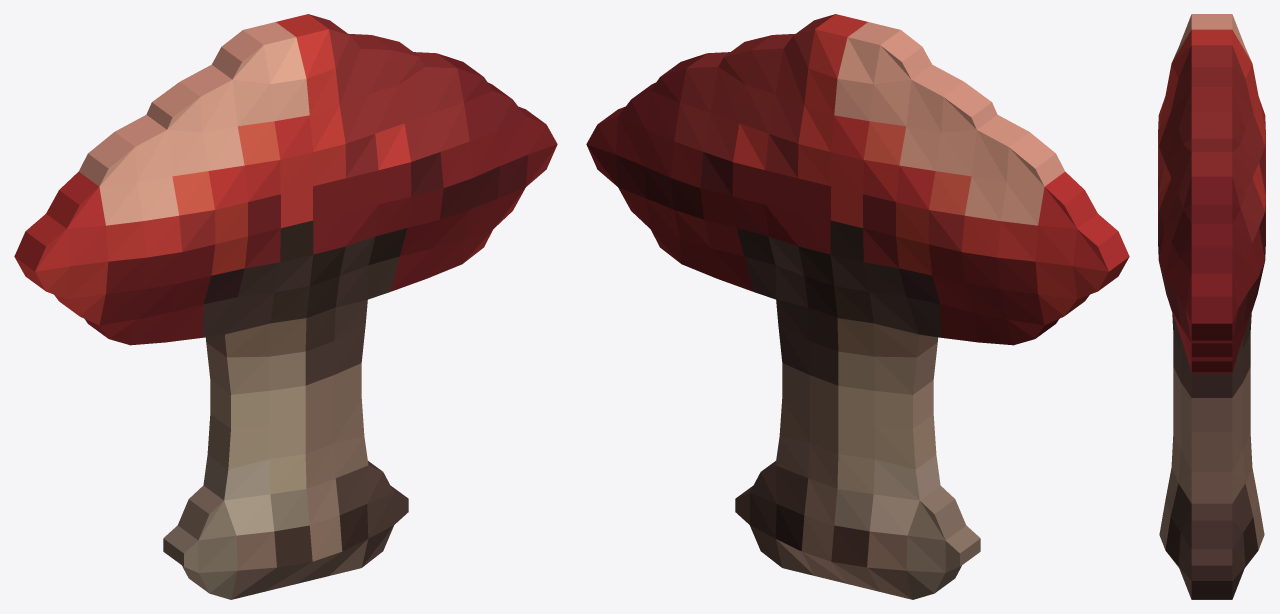
File: giant_mushroom_tree.glb
3 renders of one model, left to right at view 1: azimuth 30°, elevation 25°; view 2: azimuth 150°, elevation 25°; view 3: azimuth 270°, elevation 25°, orthographic.
Parts seen in each view (by area): view 1: giant_mushroom_tree; view 2: giant_mushroom_tree; view 3: giant_mushroom_tree.
Part boxes in pixels (left/top/right/bottom): giant_mushroom_tree: left=14, top=14, right=557, bottom=599; giant_mushroom_tree: left=586, top=14, right=1129, bottom=599; giant_mushroom_tree: left=1158, top=14, right=1265, bottom=599.
Bounding box in the file's own units: 1 × 1 × 0.1813.
Materials: 1 (1 with a texture image).
